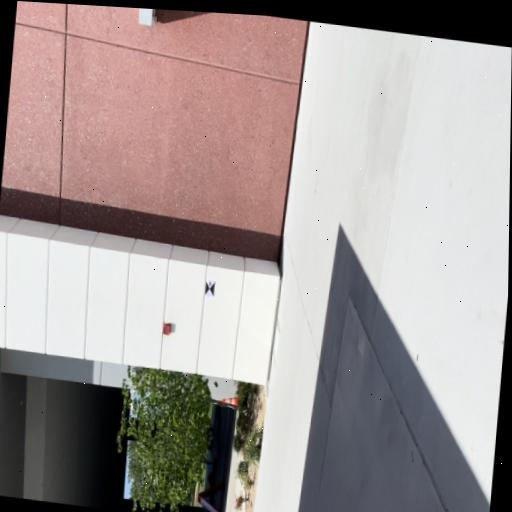target9: (205, 280, 215, 297)
